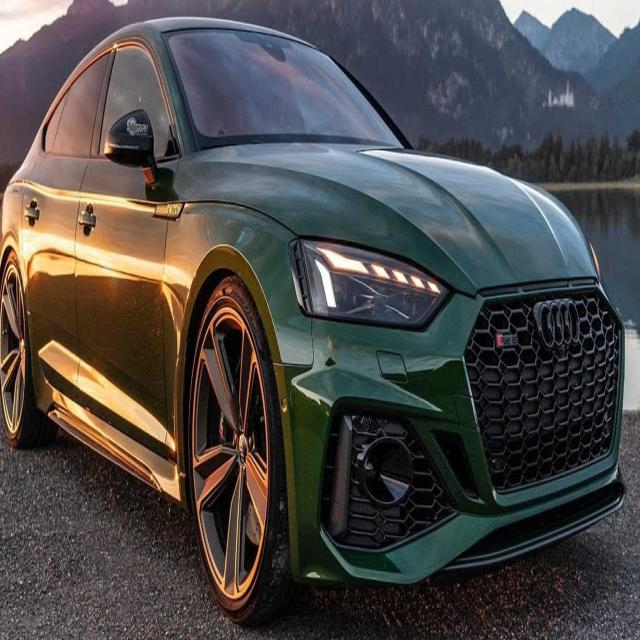green: (0, 12, 630, 611)
